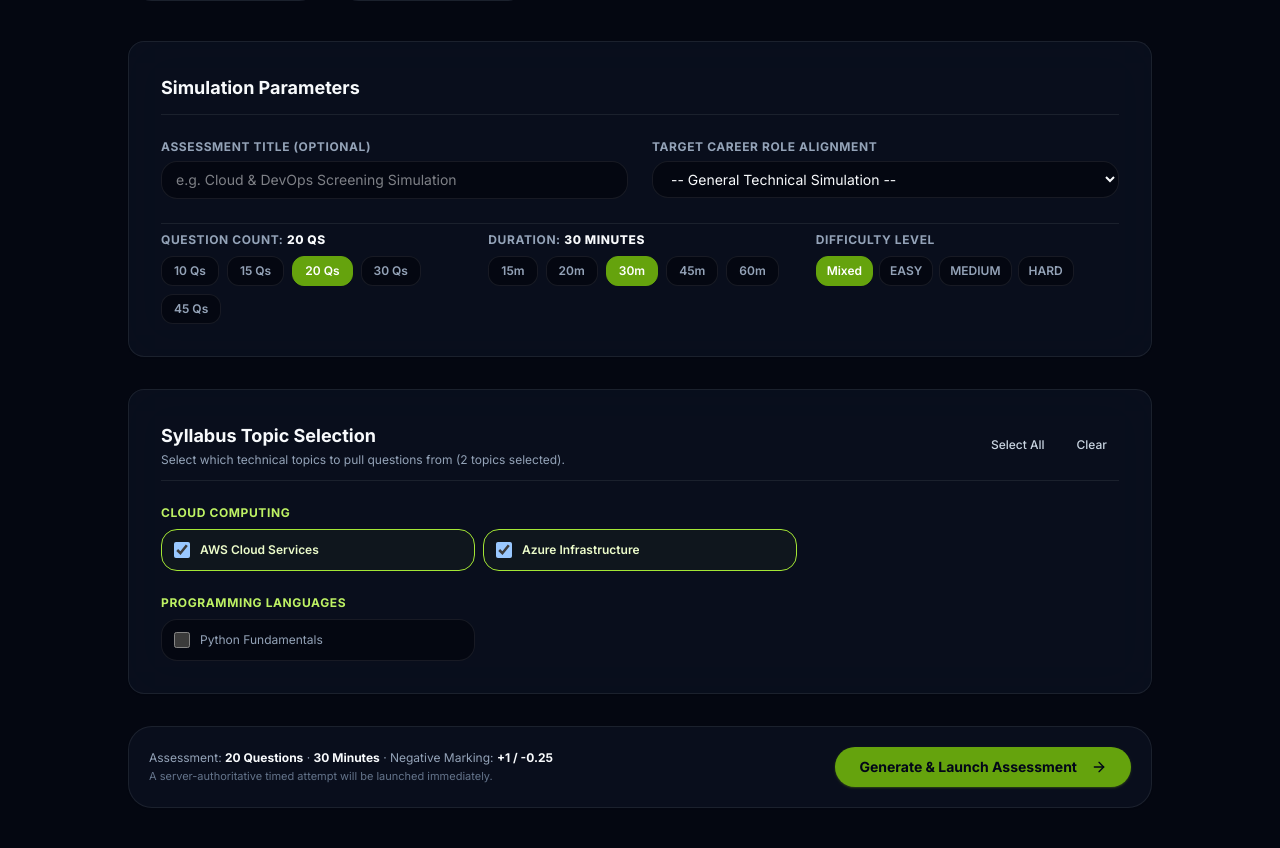
Scenario: CustomMockTestPage › selects and clears topics via action buttons
(page scrolled)
Expected: the text "AWS Cloud Services" is shown, [200, 542, 319, 558]
Step 1. Click the button "Clear" → [1092, 445], box [1064, 431, 1119, 459]
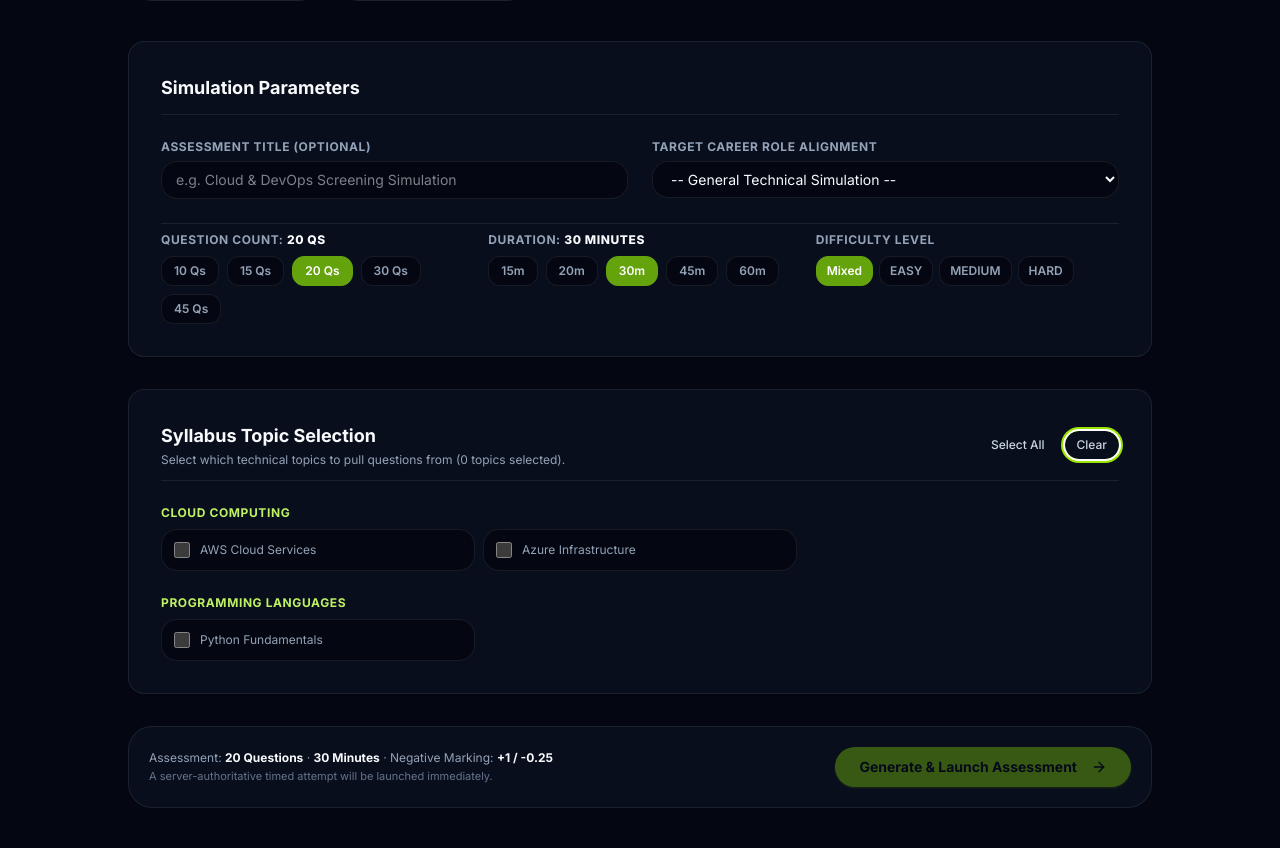
Expected: the text "0 topics selected" is shown, [161, 452, 565, 468]
Step 2. Click the button "Select All" → [1018, 445], box [979, 431, 1056, 459]
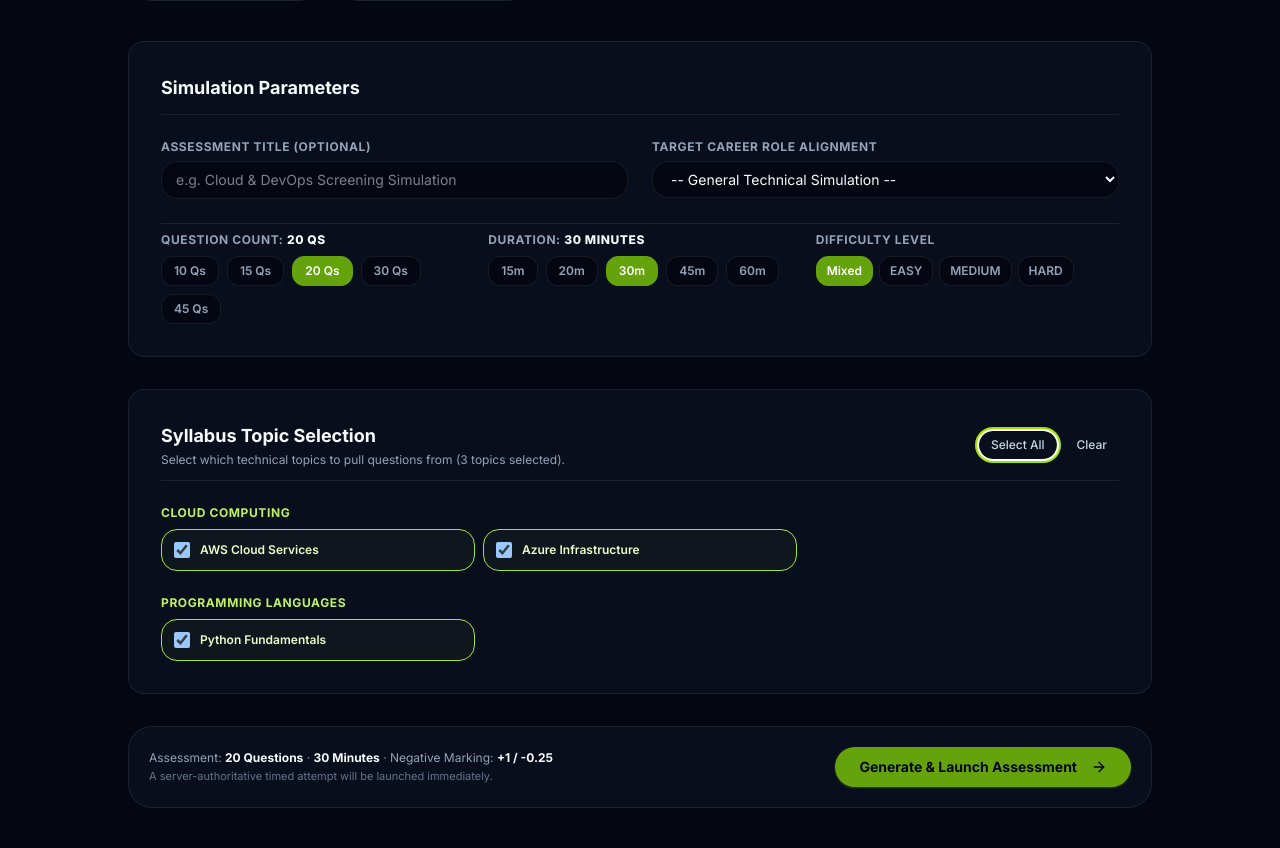
Expected: the text "3 topics selected" is shown, [161, 452, 565, 468]
